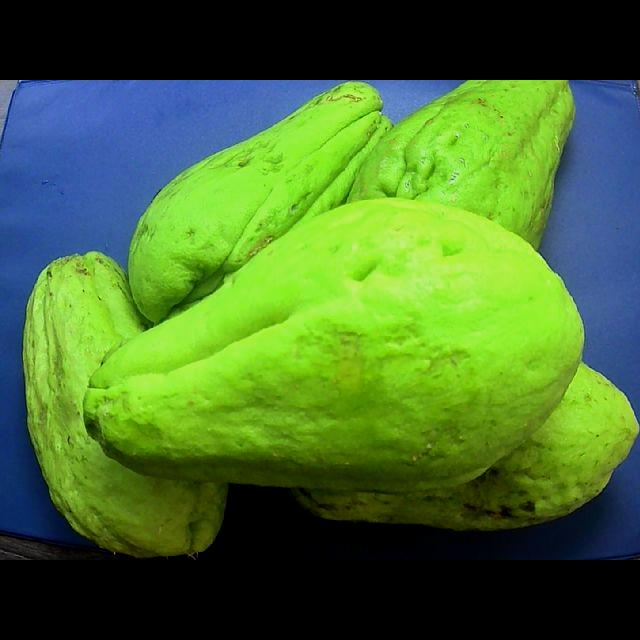chayote: (87, 198, 583, 491), (131, 81, 391, 322), (24, 252, 227, 557), (293, 363, 638, 530), (348, 80, 574, 248)
